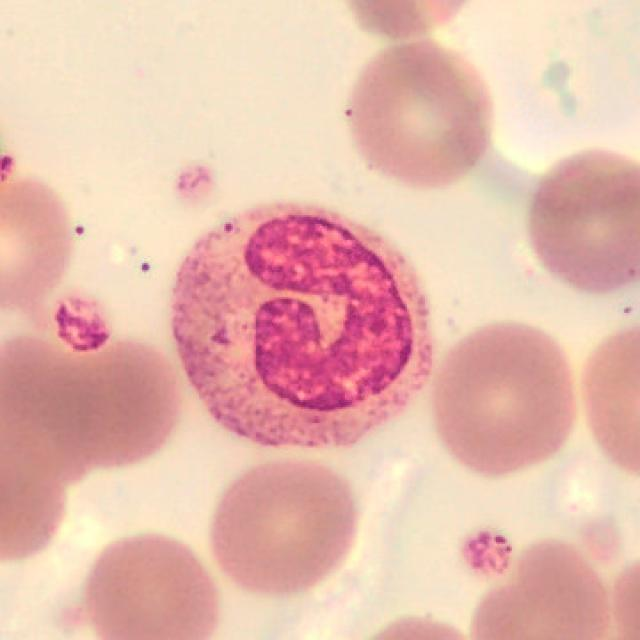Bastonete: (171, 203, 434, 448)
